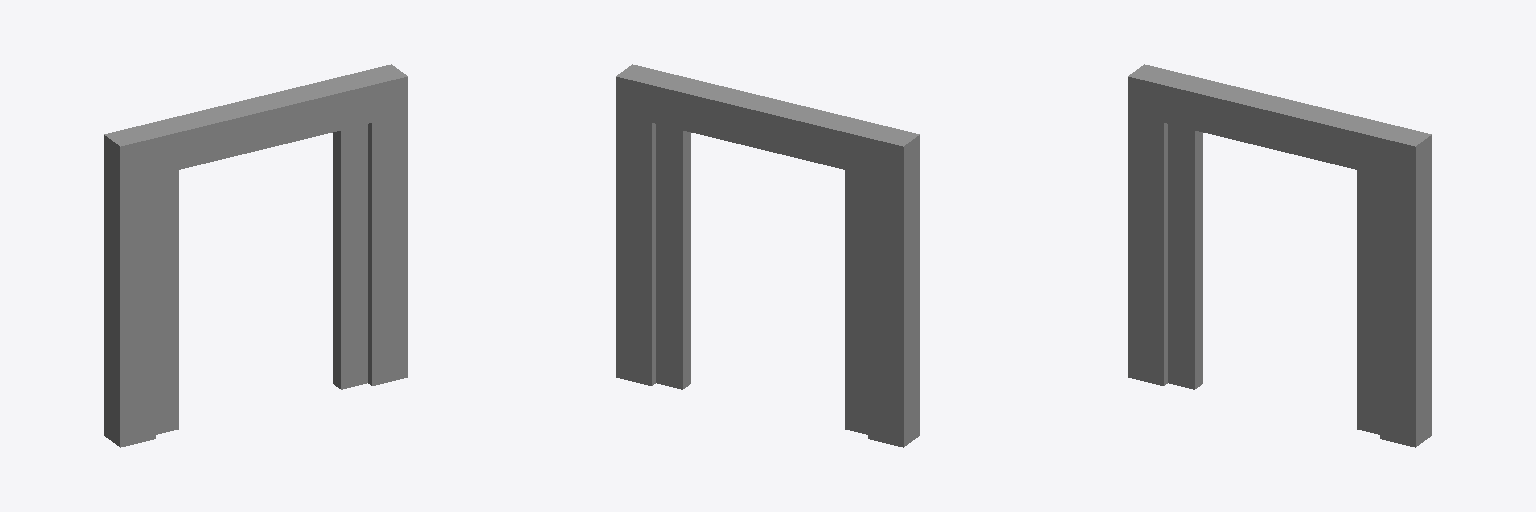
Rendered from doors.obj.
The picture shows the model from 3 angles: view 1: azimuth 30°, elevation 25°; view 2: azimuth 150°, elevation 25°; view 3: azimuth 330°, elevation 25°; orthographic projection.
Parts seen in each view (by area): view 1: Cube; view 2: Cube; view 3: Cube.
Boxes of the visible parts, box(x1,y1,x2,y2) form: Cube: box(104, 64, 407, 447); Cube: box(616, 64, 919, 447); Cube: box(1128, 64, 1431, 447).
Bounding box in the file's own units: 1 × 1 × 0.1.